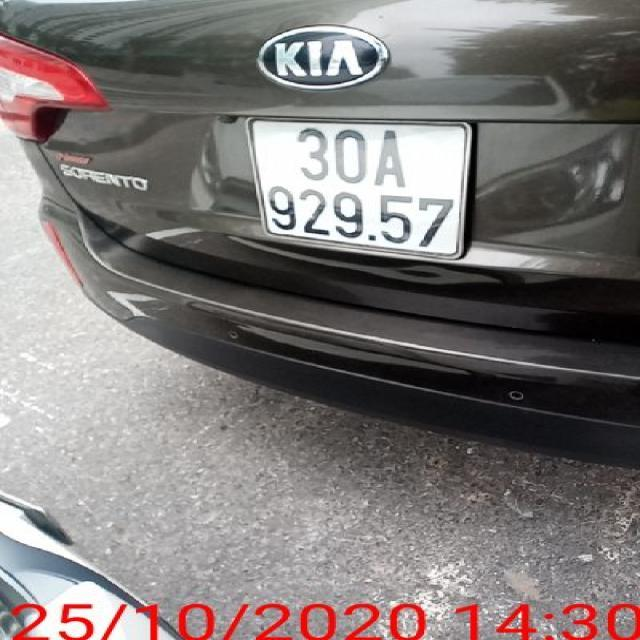bien_so_oto: (244, 115, 474, 262)
